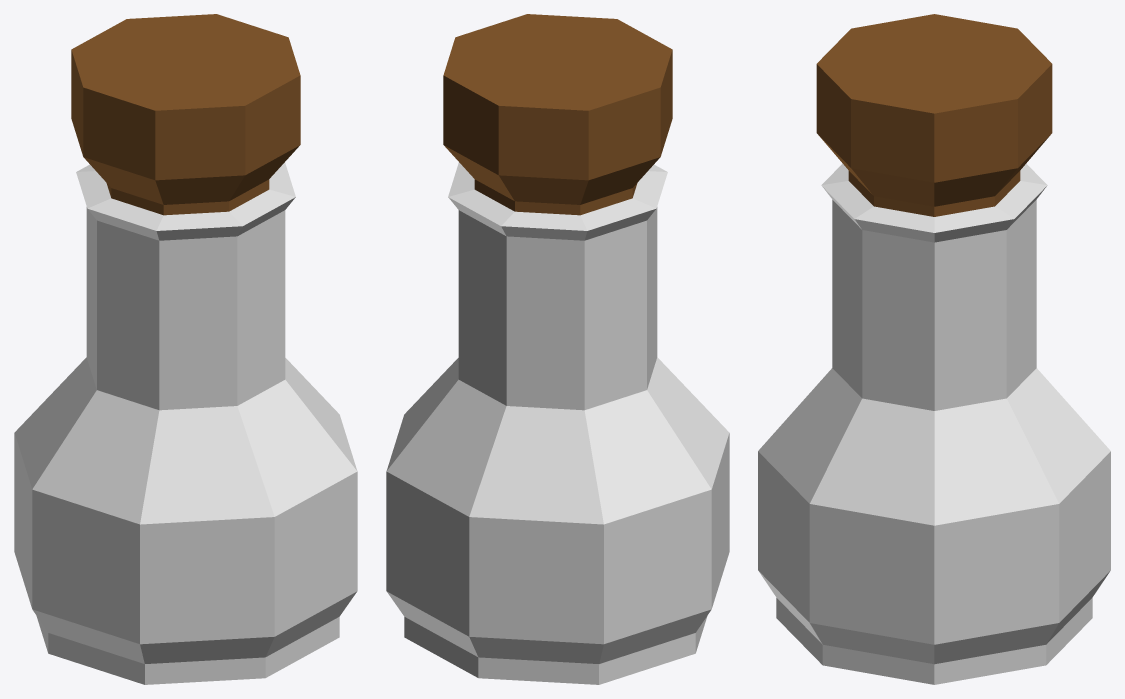
Rendered from Bottle.fbx.
3 renders of one model, left to right at view 1: azimuth 30°, elevation 25°; view 2: azimuth 150°, elevation 25°; view 3: azimuth 270°, elevation 25°, orthographic.
Parts seen in each view (by area): view 1: Bottle, Stopper; view 2: Bottle, Stopper; view 3: Bottle, Stopper.
Boxes of the visible parts, x1=… form: Bottle: x1=14, y1=162, x2=357, y2=684; Stopper: x1=71, y1=14, x2=300, y2=215; Bottle: x1=386, y1=162, x2=729, y2=684; Stopper: x1=443, y1=14, x2=672, y2=215; Bottle: x1=758, y1=163, x2=1110, y2=684; Stopper: x1=816, y1=14, x2=1052, y2=216.
Bounding box in the file's own units: 223 × 387 × 223.
